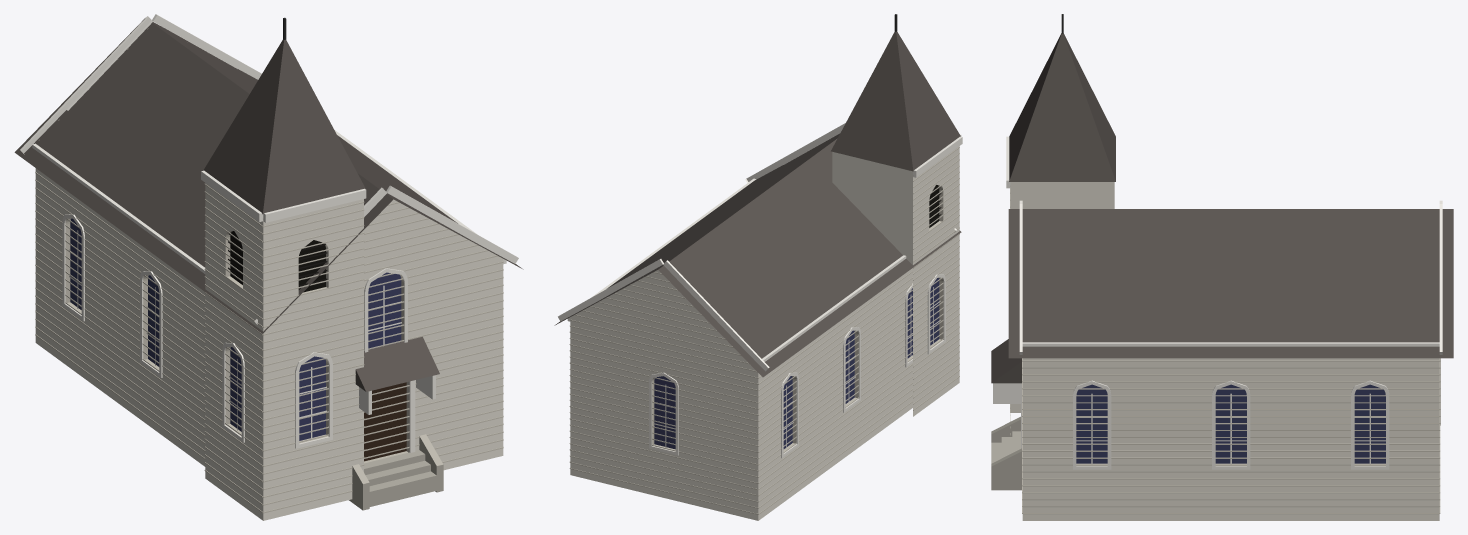
Rendered from ch-allison-presbyterian-1913.glb.
3 renders of one model, left to right at view 1: azimuth 30°, elevation 25°; view 2: azimuth 150°, elevation 25°; view 3: azimuth 270°, elevation 25°, orthographic. The views are drawn at different scales.
Parts seen in each view (by area): view 1: ch_brick, ch_roof, ch_brick2, ch_roof2, ch_trim, ch_stain, ch_conc, ch_door, ch_shadow; view 2: ch_brick, ch_roof, ch_brick2, ch_roof2, ch_trim, ch_stain; view 3: ch_roof, ch_brick, ch_brick2, ch_roof2, ch_trim, ch_stain, ch_conc.
Boxes of the visible parts, bbox=[...] form: ch_brick: bbox=[35, 168, 503, 520]; ch_roof: bbox=[14, 18, 523, 333]; ch_brick2: bbox=[35, 28, 503, 513]; ch_roof2: bbox=[203, 39, 439, 391]; ch_trim: bbox=[20, 14, 518, 452]; ch_stain: bbox=[70, 218, 401, 440]; ch_conc: bbox=[349, 434, 443, 510]; ch_door: bbox=[364, 382, 406, 461]; ch_shadow: bbox=[230, 231, 325, 292]; ch_brick: bbox=[570, 146, 959, 520]; ch_roof: bbox=[554, 133, 961, 377]; ch_brick2: bbox=[569, 147, 959, 514]; ch_roof2: bbox=[831, 31, 960, 171]; ch_trim: bbox=[558, 123, 962, 458]; ch_stain: bbox=[654, 277, 939, 449]; ch_roof: bbox=[1008, 209, 1453, 358]; ch_brick: bbox=[1010, 182, 1439, 520]; ch_brick2: bbox=[1010, 186, 1440, 514]; ch_roof2: bbox=[991, 33, 1115, 383]; ch_trim: bbox=[993, 136, 1442, 469]; ch_stain: bbox=[1076, 384, 1385, 463]; ch_conc: bbox=[991, 416, 1021, 490].
Bounding box in the file's own units: 7.89 × 13.45 × 13.3.
